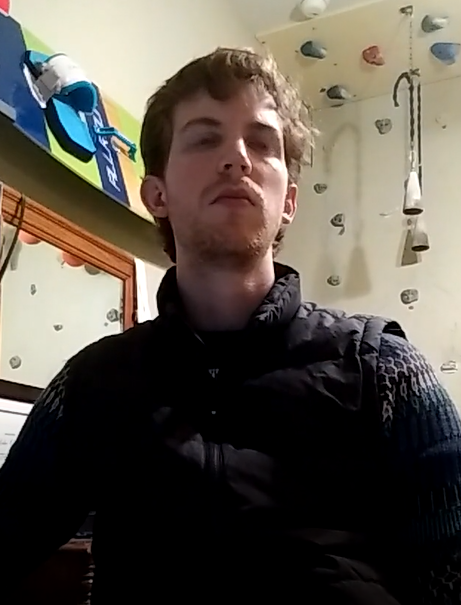Half Asleep: (164, 114, 291, 163)
